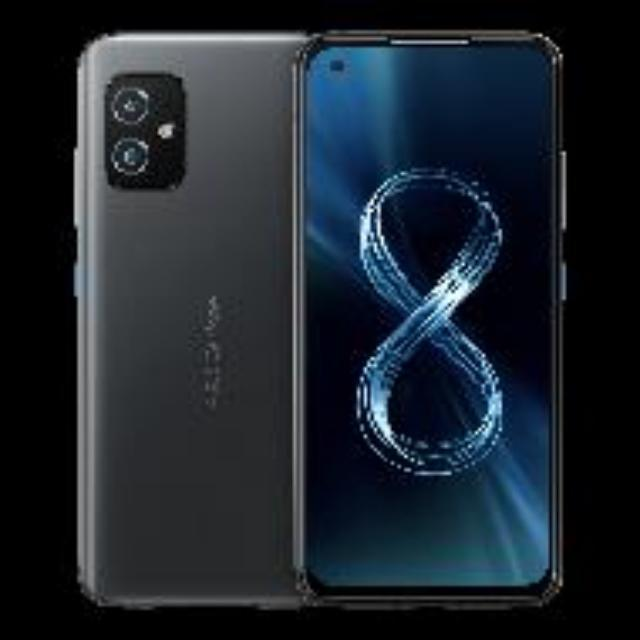Phone: (296, 28, 566, 606), (71, 29, 293, 611)
